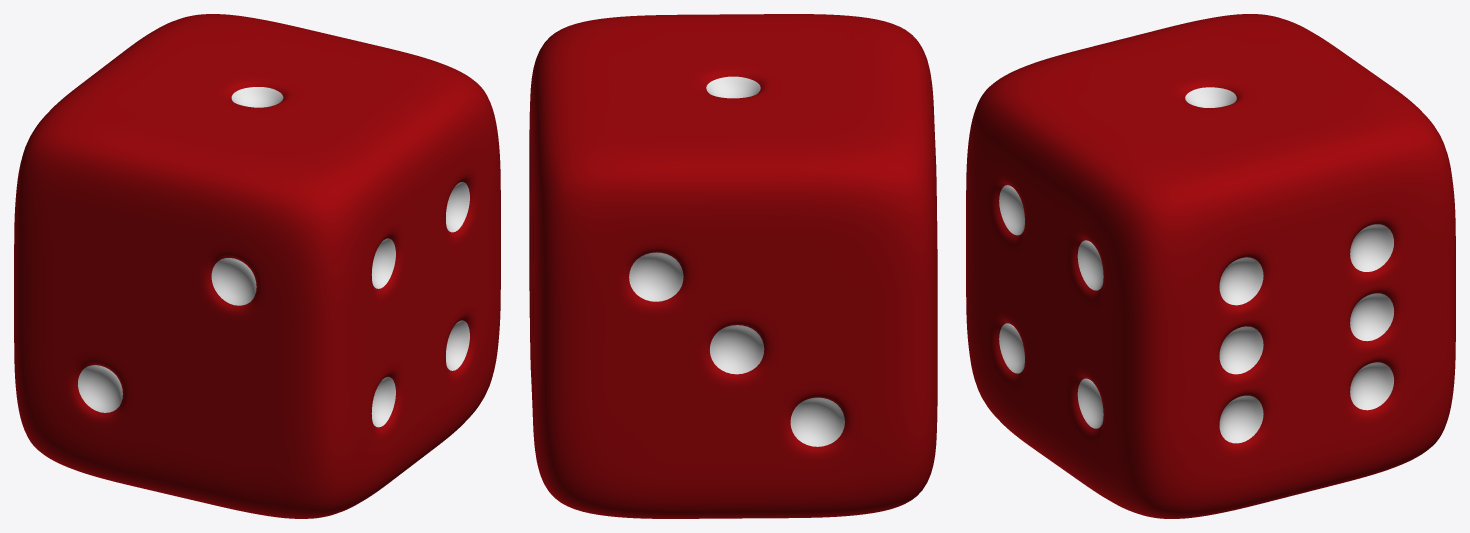
The model's file is DiceProject.fbx.
The picture shows the model from 3 angles, left to right: view 1: azimuth 30°, elevation 25°; view 2: azimuth 150°, elevation 25°; view 3: azimuth 270°, elevation 25°; orthographic projection. The views are drawn at different scales.
Visible parts, largest first — view 1: Dice; view 2: Dice; view 3: Dice.
Part boxes in pixels (bbox=[...]): Dice: bbox=[14, 14, 500, 518]; Dice: bbox=[529, 14, 937, 518]; Dice: bbox=[966, 14, 1455, 518].
Size of the model in its own units: 72.41 by 56.34 by 72.41.
